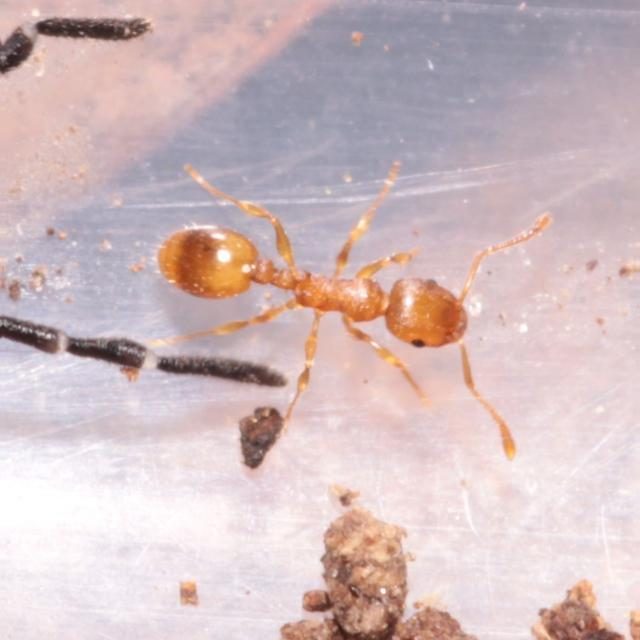Temnothorax: (114, 146, 530, 412)
